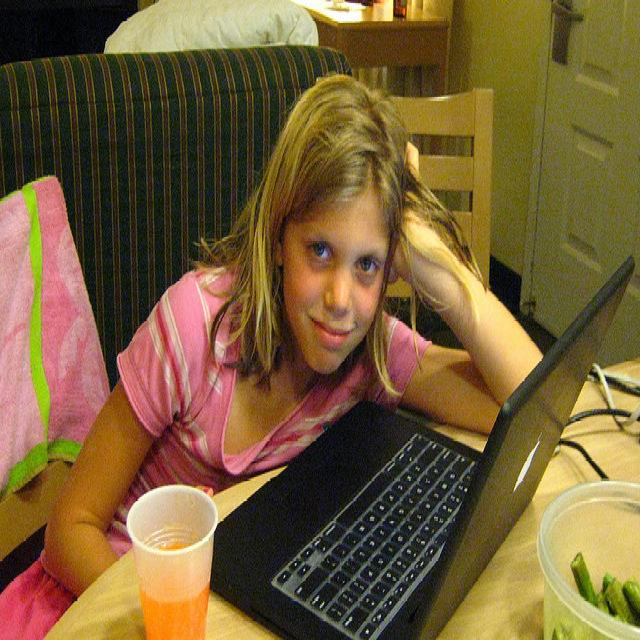chair: (315, 77, 496, 349), (305, 7, 449, 95)
